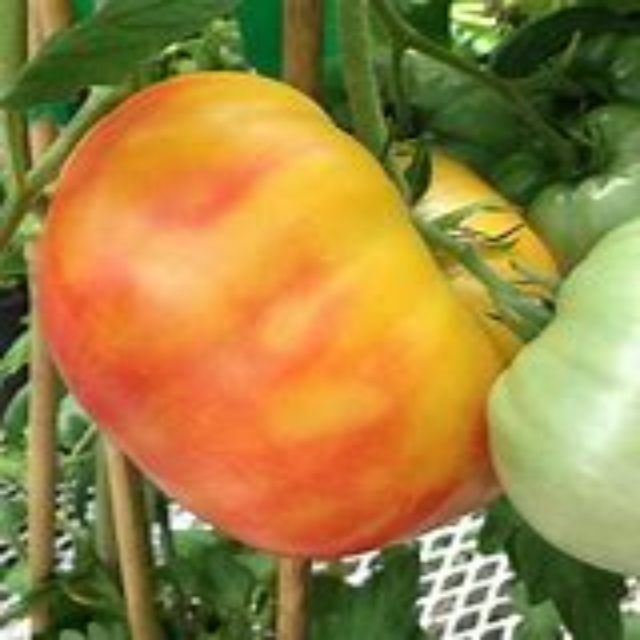tomato: (47, 77, 495, 549), (473, 225, 639, 567)
